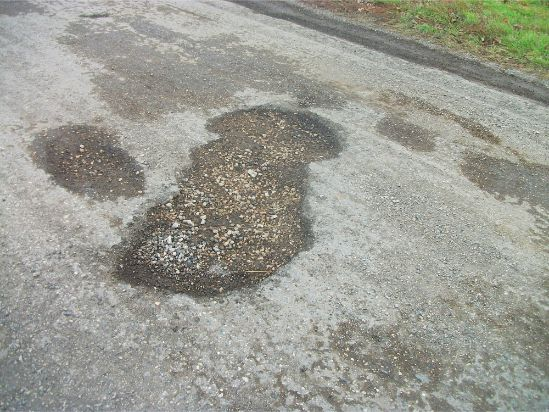pothole: (103, 103, 348, 305), (23, 123, 147, 200)
